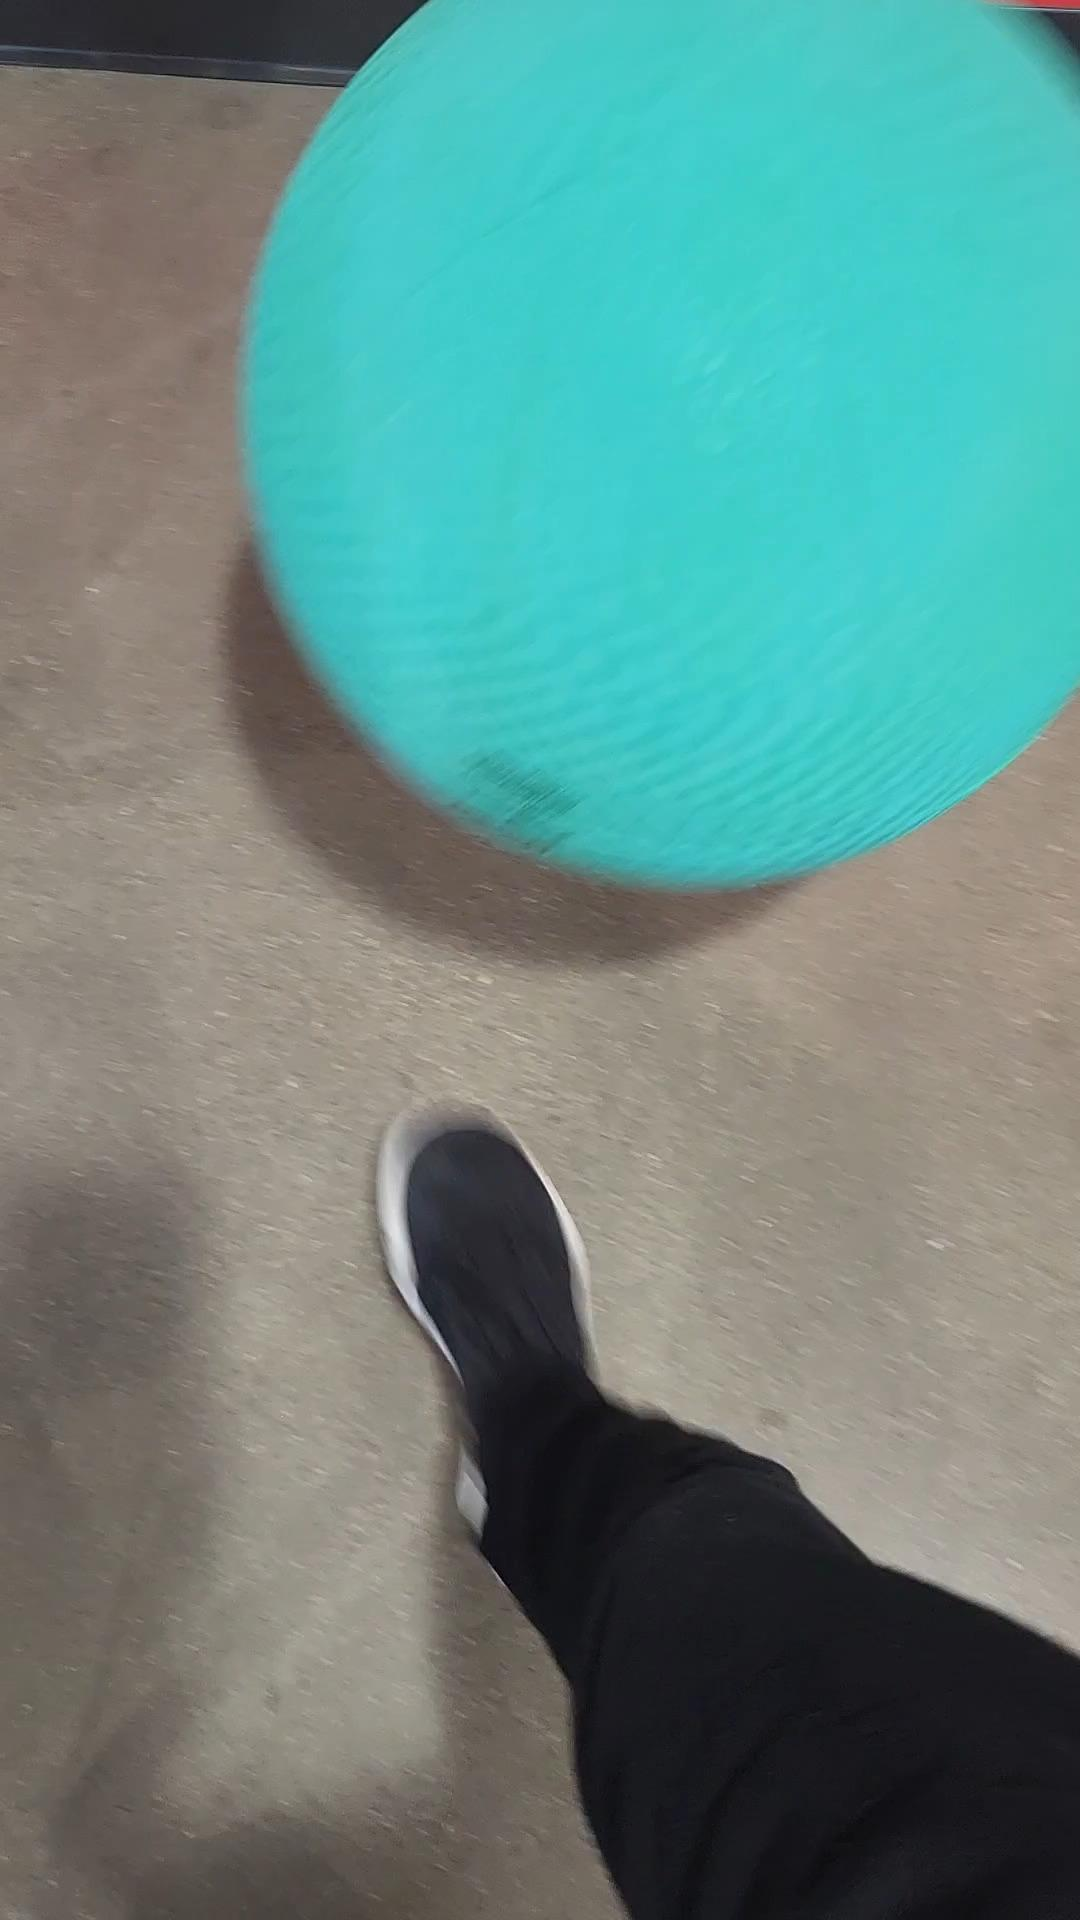algae: (236, 0, 1080, 877)
